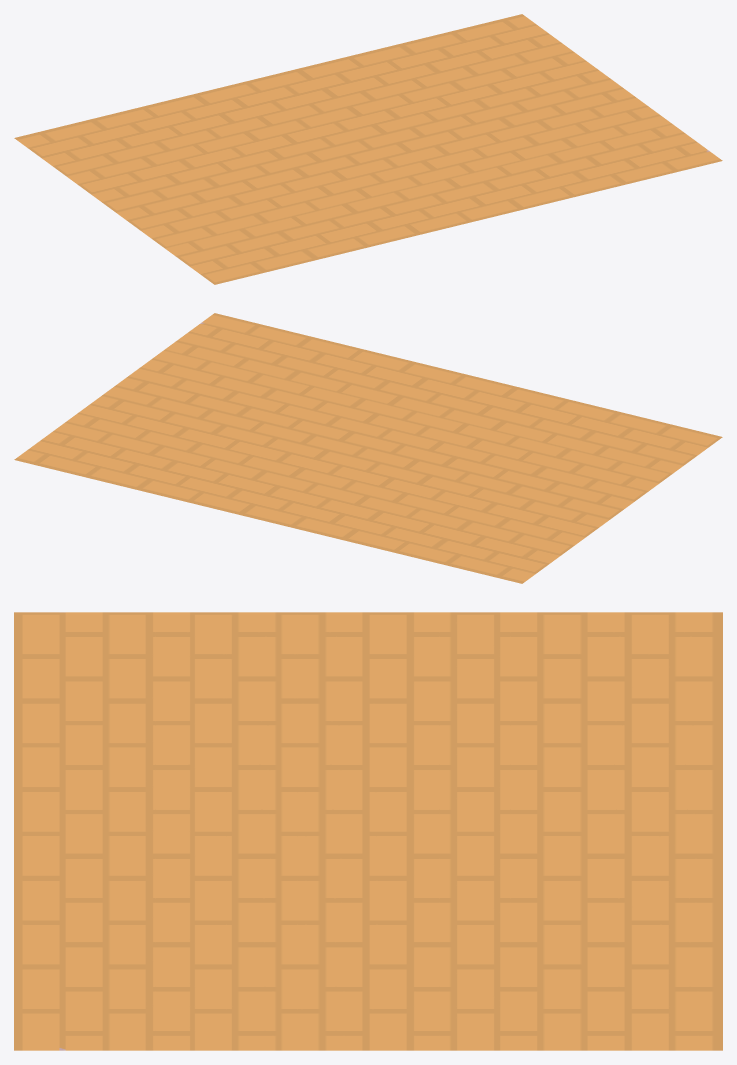
File: murécole.fbx
3 renders of one model, top to bottom at view 1: azimuth 30°, elevation 25°; view 2: azimuth 150°, elevation 25°; view 3: azimuth 270°, elevation 25°, orthographic. The views are drawn at different scales.
Visible parts, largest first — view 1: pPlane1; view 2: pPlane1; view 3: pPlane1.
Part boxes in pixels (bbox=[...]): pPlane1: bbox=[14, 14, 722, 284]; pPlane1: bbox=[14, 313, 722, 583]; pPlane1: bbox=[14, 612, 722, 1050].
Size of the model in its own units: 50.35 by 0 by 34.43.
Materials: 1 (1 with a texture image).
